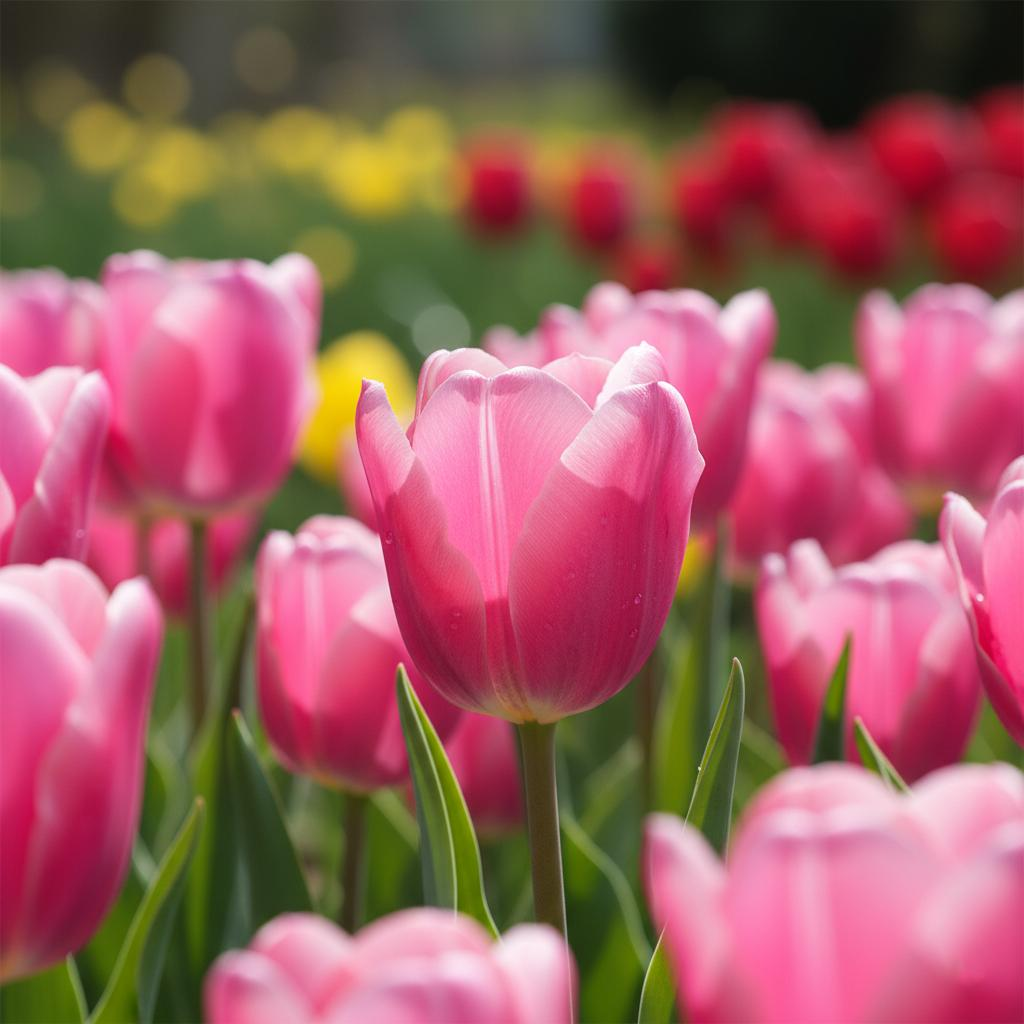tulip: (351, 343, 706, 726)
